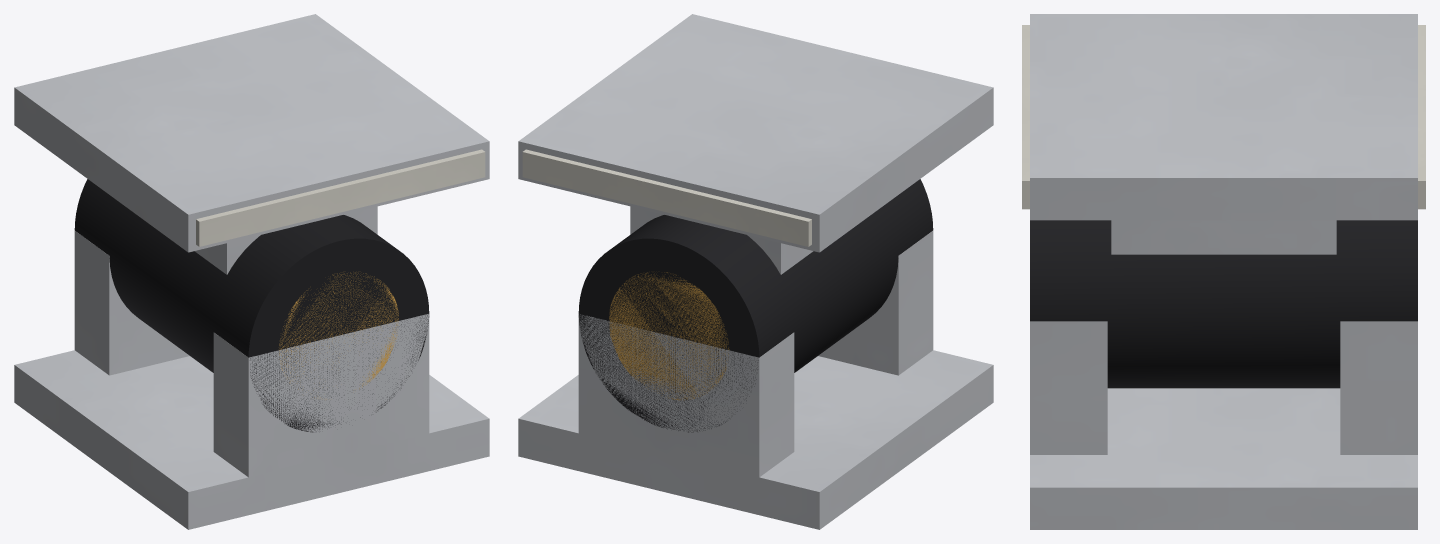
The model's file is robo00_hinge_xs.glb.
3 renders of one model, left to right at view 1: azimuth 30°, elevation 25°; view 2: azimuth 150°, elevation 25°; view 3: azimuth 270°, elevation 25°, orthographic. The views are drawn at different scales.
Visible parts, largest first — view 1: base_block, half_b_block, motor, half_b_foil, motor_caps; view 2: base_block, half_b_block, motor, motor_caps, half_b_foil; view 3: half_b_block, base_block, motor, half_b_foil.
Boxes of the visible parts, box(x1,y1,x2,y2) form: base_block: box(14, 230, 489, 529); half_b_block: box(14, 14, 489, 274); motor: box(74, 179, 429, 432); half_b_foil: box(196, 149, 485, 246); motor_caps: box(279, 272, 398, 397); base_block: box(518, 230, 993, 529); half_b_block: box(518, 14, 993, 274); motor: box(578, 179, 933, 432); motor_caps: box(609, 272, 729, 400); half_b_foil: box(522, 149, 811, 246); half_b_block: box(1030, 14, 1417, 254); base_block: box(1030, 321, 1417, 529); motor: box(1030, 220, 1417, 388); half_b_foil: box(1022, 25, 1425, 209).
Size of the model in its own units: 0.2 by 0.2 by 0.208.
Materials: 4 (3 with a texture image).
